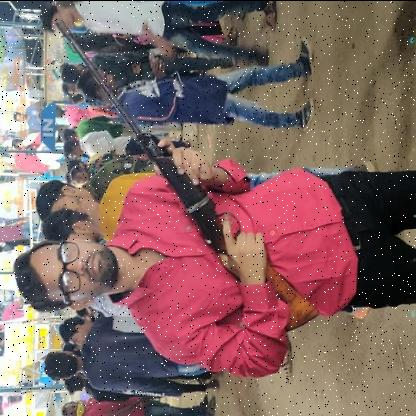rifle: (53, 16, 322, 334)
